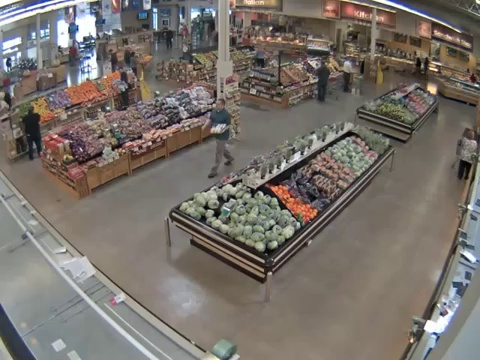face: (216, 101, 222, 110)
